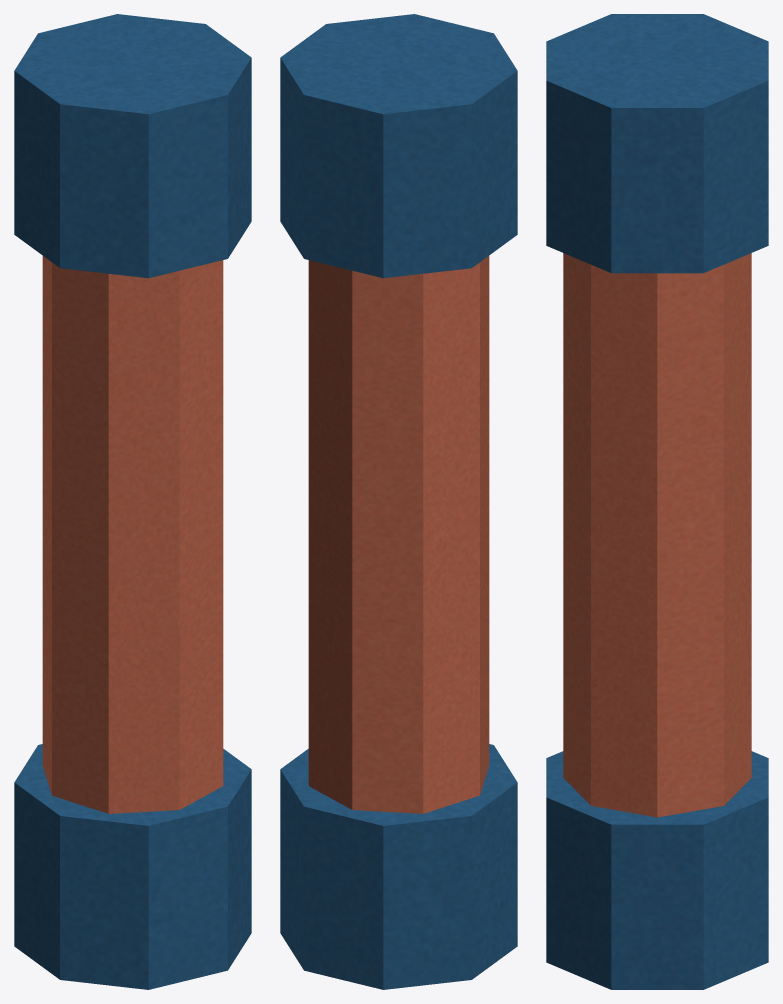
The model's file is Fuse.fbx.
The picture shows the model from 3 angles, left to right: view 1: azimuth 30°, elevation 25°; view 2: azimuth 150°, elevation 25°; view 3: azimuth 270°, elevation 25°; orthographic projection.
Parts seen in each view (by area): view 1: Fuse; view 2: Fuse; view 3: Fuse.
Boxes of the visible parts, x1,y1,x2,y2 form: Fuse: (14,14,251,989); Fuse: (280,14,517,989); Fuse: (546,14,768,989).
Size of the model in its own units: 11.83 by 51.68 by 11.83.
